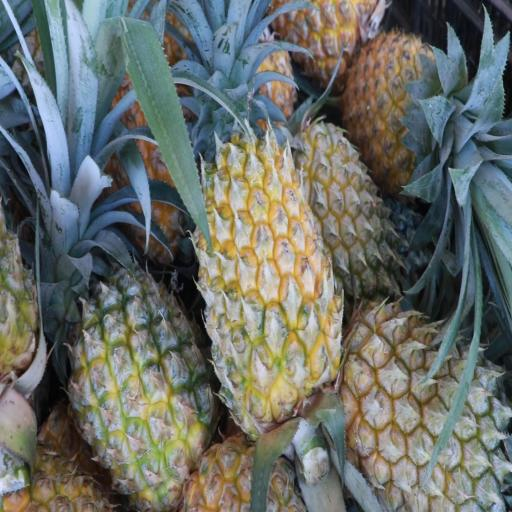Pineapple - v8 v1: (197, 141, 334, 429), (68, 275, 203, 502), (350, 34, 450, 182)
